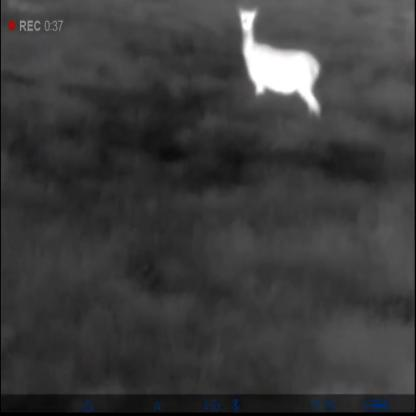rehkitze: (232, 8, 328, 119)
